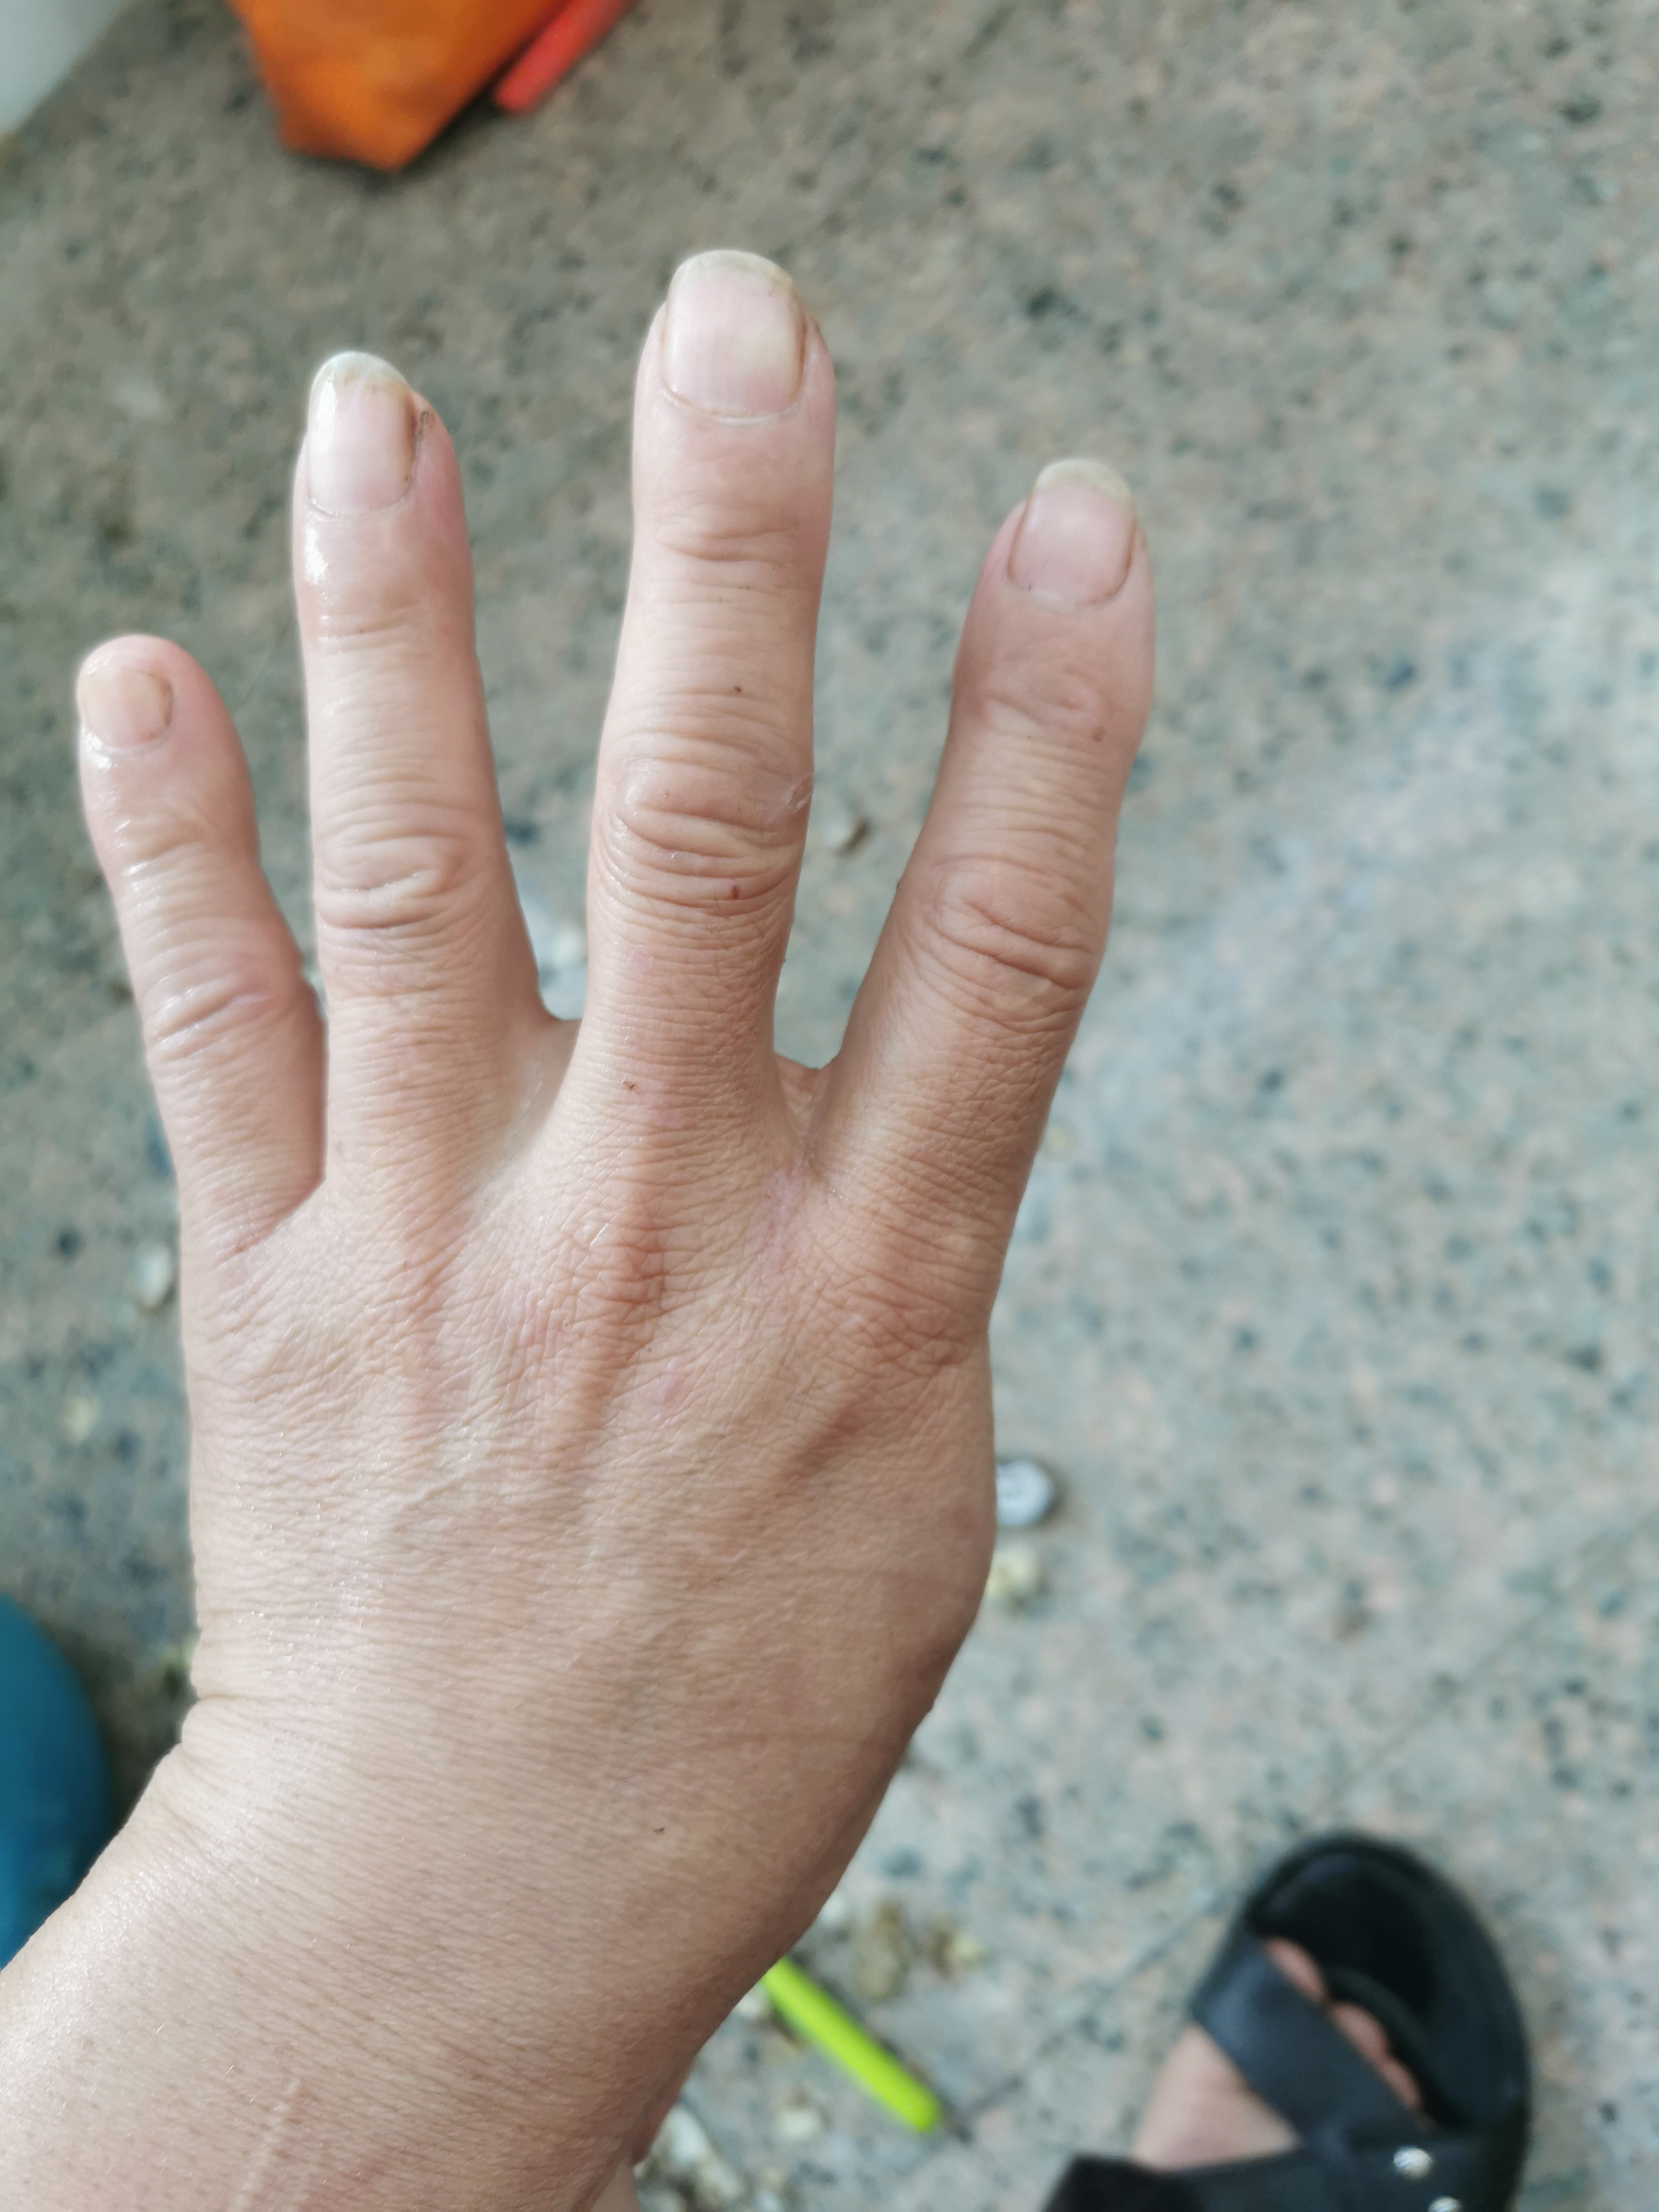right: (59, 206, 1173, 1803)
